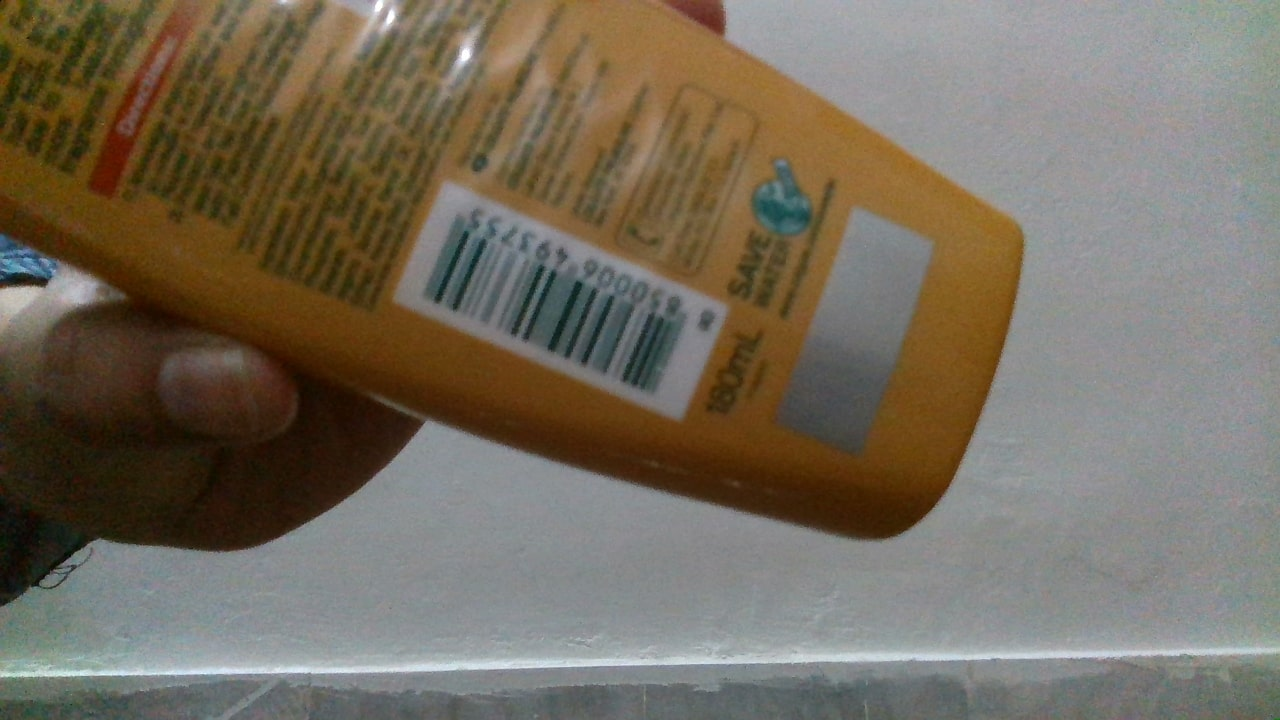Barcode: (417, 208, 692, 402)
